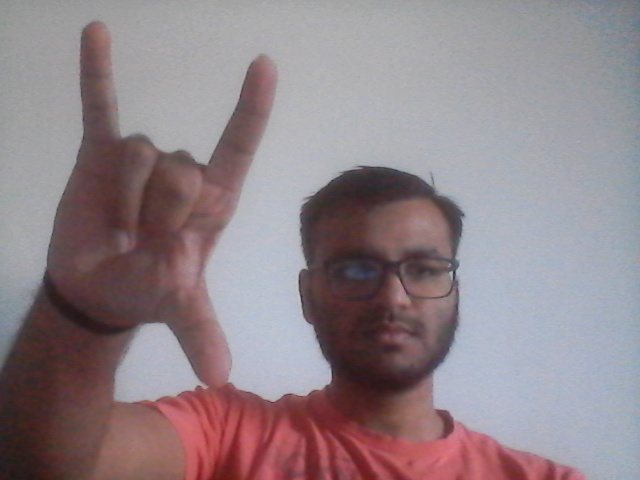I Love You: (45, 13, 283, 388)
